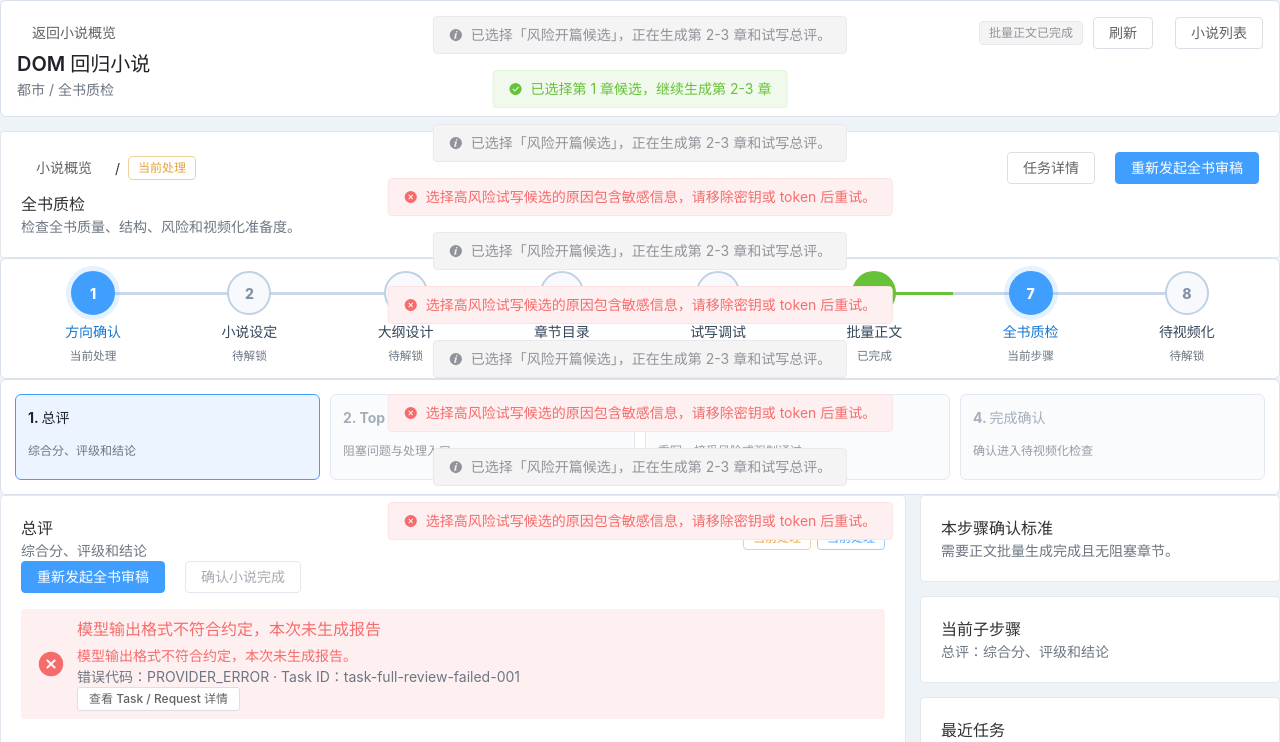
Test case: NovelDetailWorkbench DOM behavior › shows a safe failed full-review recovery state with task and request trace access
The width and height of the screenshot is (1280, 742).
Step 1. Click the button "查看 Task / Request 详情" → point(159, 699), box [77,687,240,711]
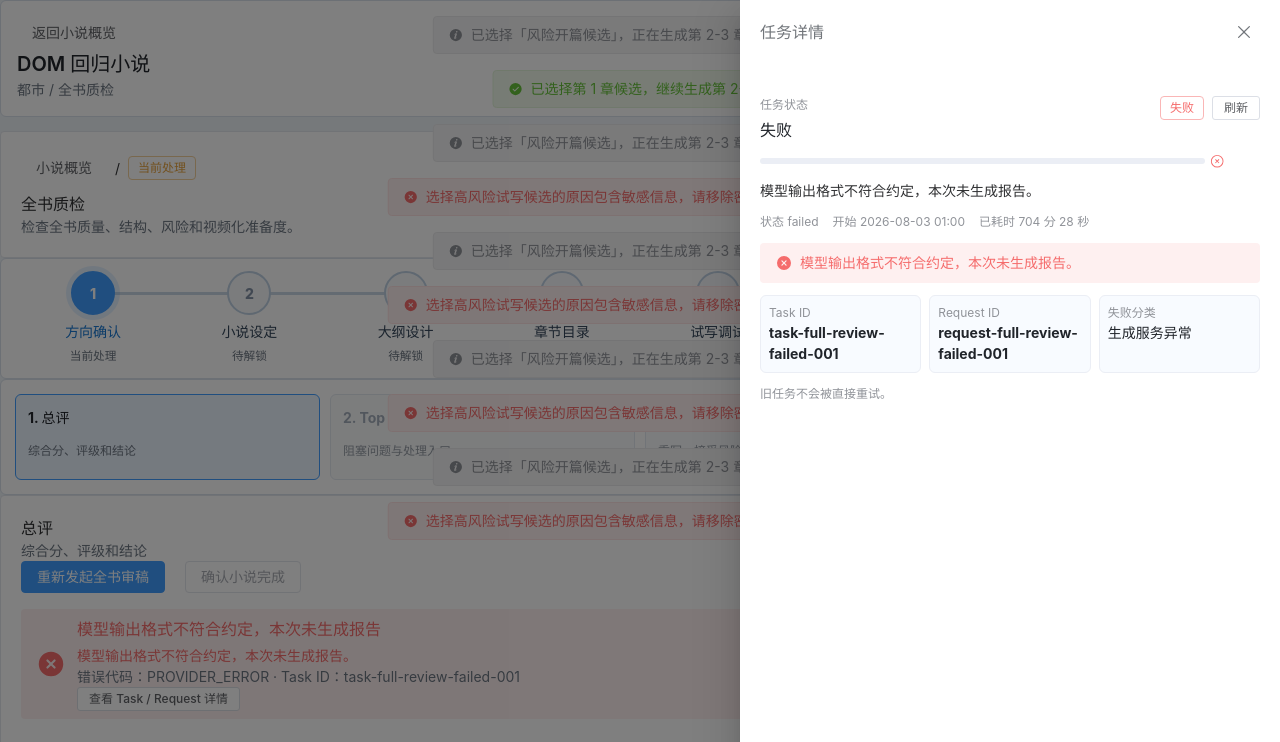
Expected: the text "task-full-review-failed-001" is shown, [77,668,520,684]
Expected: the text "request-full-review-failed-001" is shown, [938,322,1082,364]
